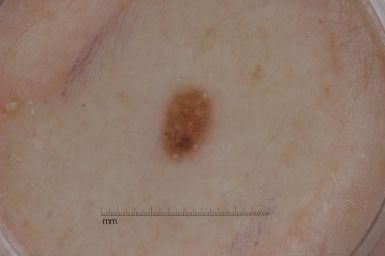seborrheic keratosis: (151, 75, 236, 175)
